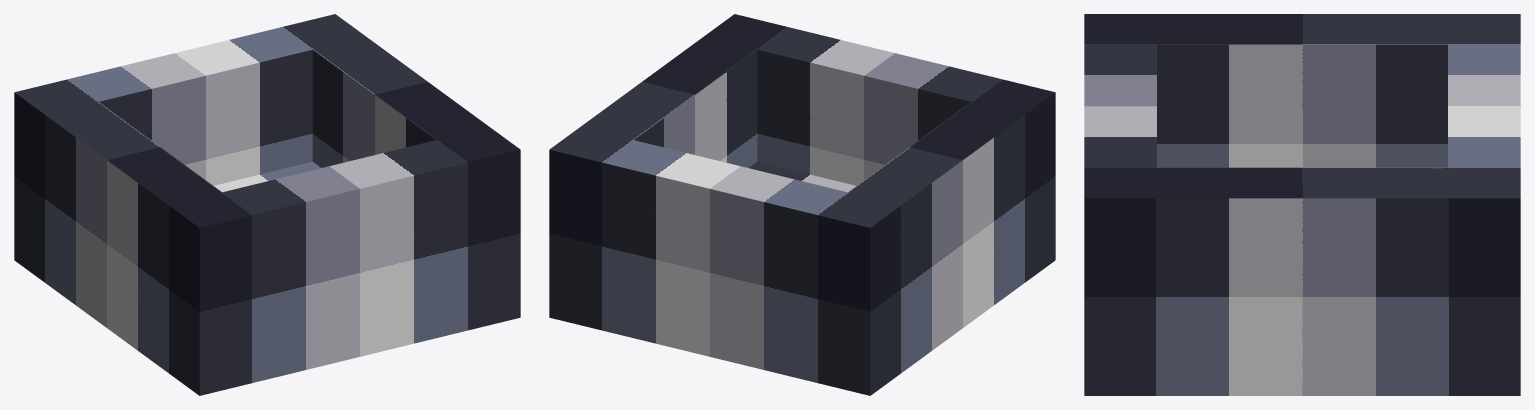
File: light_bulb_construction_stage_1.glb
3 views of the same model, side by side, from view 1: azimuth 30°, elevation 25°; view 2: azimuth 150°, elevation 25°; view 3: azimuth 270°, elevation 25° (orthographic). The views are drawn at different scales.
Visible parts, largest first — view 1: Continuous_Frame_With_Lined_Socket; view 2: Continuous_Frame_With_Lined_Socket; view 3: Continuous_Frame_With_Lined_Socket.
Boxes of the visible parts, x1=… form: Continuous_Frame_With_Lined_Socket: x1=14, y1=14, x2=520, y2=395; Continuous_Frame_With_Lined_Socket: x1=549, y1=14, x2=1055, y2=395; Continuous_Frame_With_Lined_Socket: x1=1084, y1=14, x2=1520, y2=395.
Size of the model in its own units: 0.1688 by 0.0844 by 0.1688.
1 material, 1 textured.
